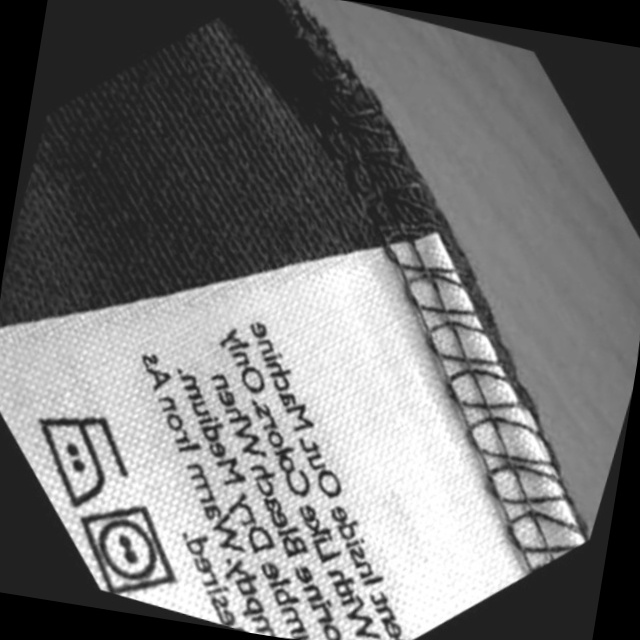iron_medium: (6, 390, 147, 523)
tumble_dry_medium: (54, 484, 198, 614)
